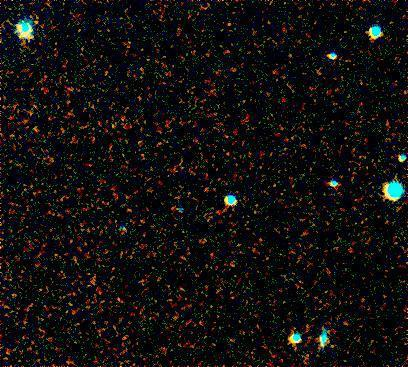star: (101, 212, 131, 242)
